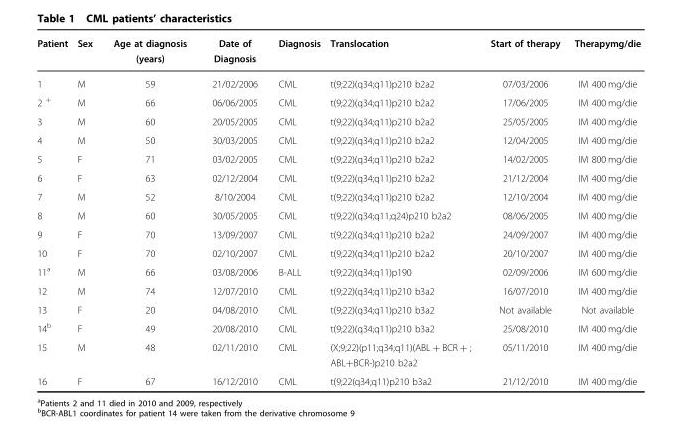table: (36, 37, 640, 386)
table column: (324, 37, 479, 386), (102, 37, 198, 386), (479, 37, 566, 386), (566, 37, 640, 386), (198, 37, 267, 386), (267, 37, 324, 386), (36, 37, 71, 386), (71, 37, 102, 386)
table column header: (36, 37, 640, 70)
table row: (36, 337, 640, 371), (36, 37, 640, 70), (36, 70, 640, 91), (36, 91, 640, 111), (36, 261, 640, 281), (36, 317, 640, 337), (36, 111, 640, 130), (36, 130, 640, 149), (36, 149, 640, 168), (36, 186, 640, 205), (36, 205, 640, 224), (36, 224, 640, 243), (36, 168, 640, 186), (36, 243, 640, 261), (36, 281, 640, 299), (36, 299, 640, 317), (36, 371, 640, 386)
